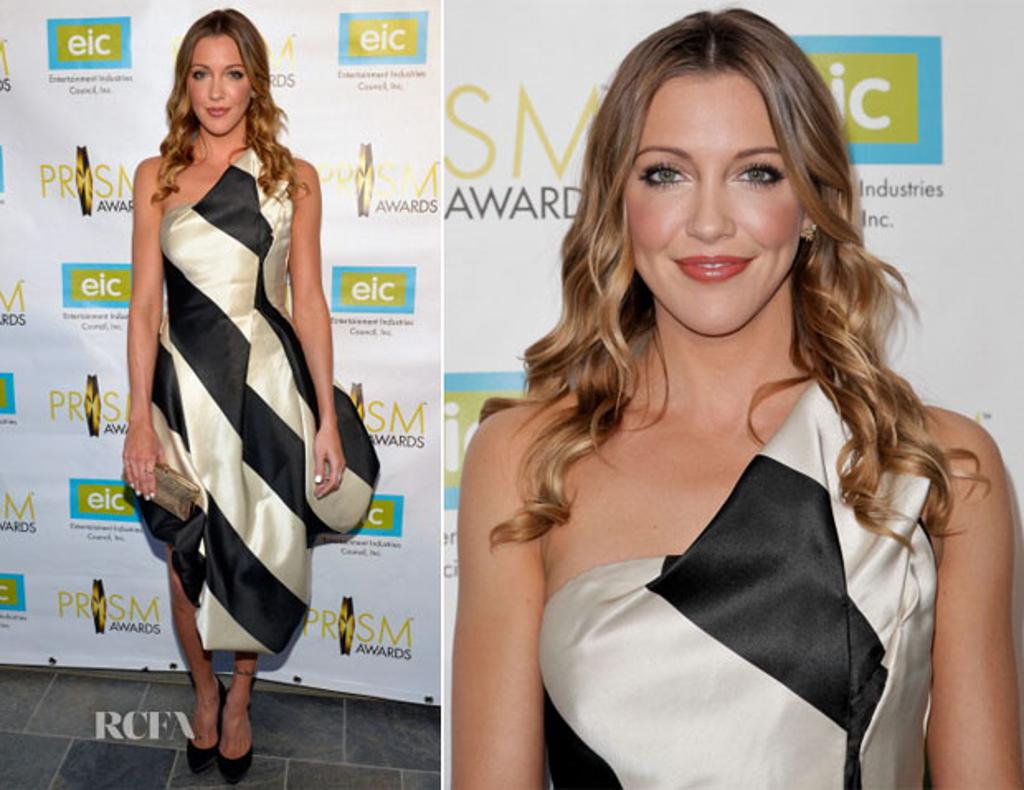face: (626, 72, 806, 338), (184, 36, 250, 134)
